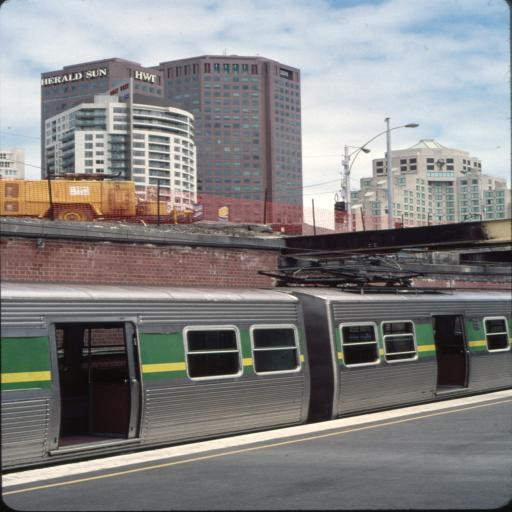platform_edge: (11, 416, 285, 494), (304, 384, 506, 436)
